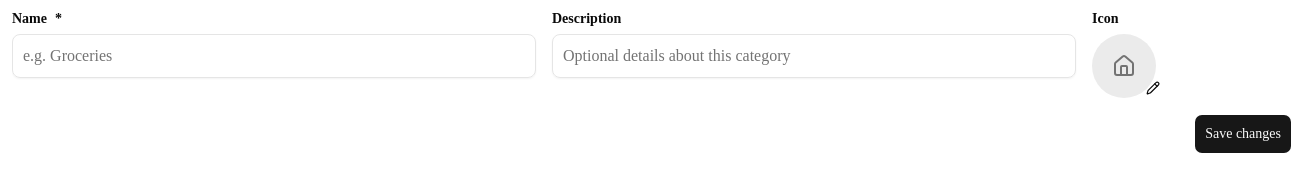
CategoryForm › shows the saving label in edit mode while submitting
In the field labelled "Name *": point(274, 56) [12, 34, 536, 78], type "Groceries"
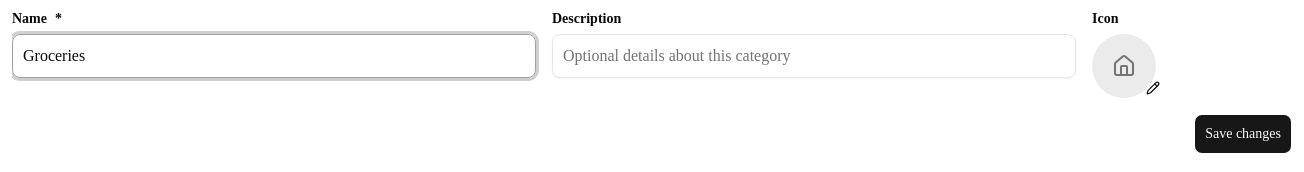
Click the button "Save changes": point(1243, 134) [1194, 114, 1292, 154]
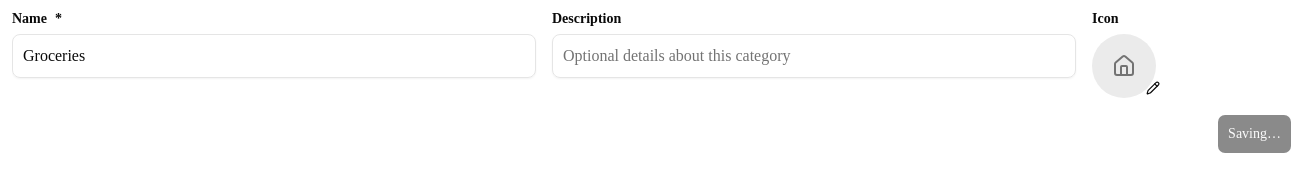
Check: the button "Saving…" is disabled, box [1217, 114, 1292, 154]
